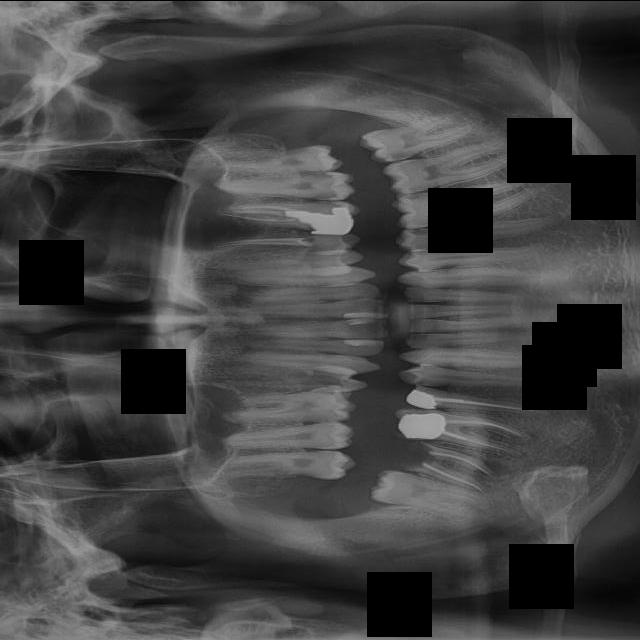71: (440, 429, 467, 441), (434, 396, 467, 404)
74: (423, 460, 487, 494), (444, 413, 525, 437), (442, 450, 492, 474), (463, 399, 535, 411), (468, 438, 516, 456), (216, 236, 303, 244), (224, 214, 300, 222), (224, 207, 283, 215), (224, 204, 299, 210), (245, 240, 308, 245), (433, 449, 444, 454)
NucleOSS Implant: (285, 206, 354, 238), (398, 412, 448, 439), (407, 388, 438, 411)
Sterngold Implant: (303, 370, 357, 392), (294, 171, 333, 180), (384, 149, 416, 159), (309, 384, 338, 395), (399, 191, 431, 200), (402, 227, 429, 237), (311, 190, 339, 199), (397, 407, 432, 414), (342, 293, 363, 300), (413, 377, 434, 384), (404, 185, 427, 191), (411, 249, 428, 255), (389, 160, 411, 164), (317, 200, 335, 204)
Straumann Implant: (310, 234, 344, 246), (341, 310, 385, 319), (344, 338, 382, 346), (344, 318, 379, 322)
